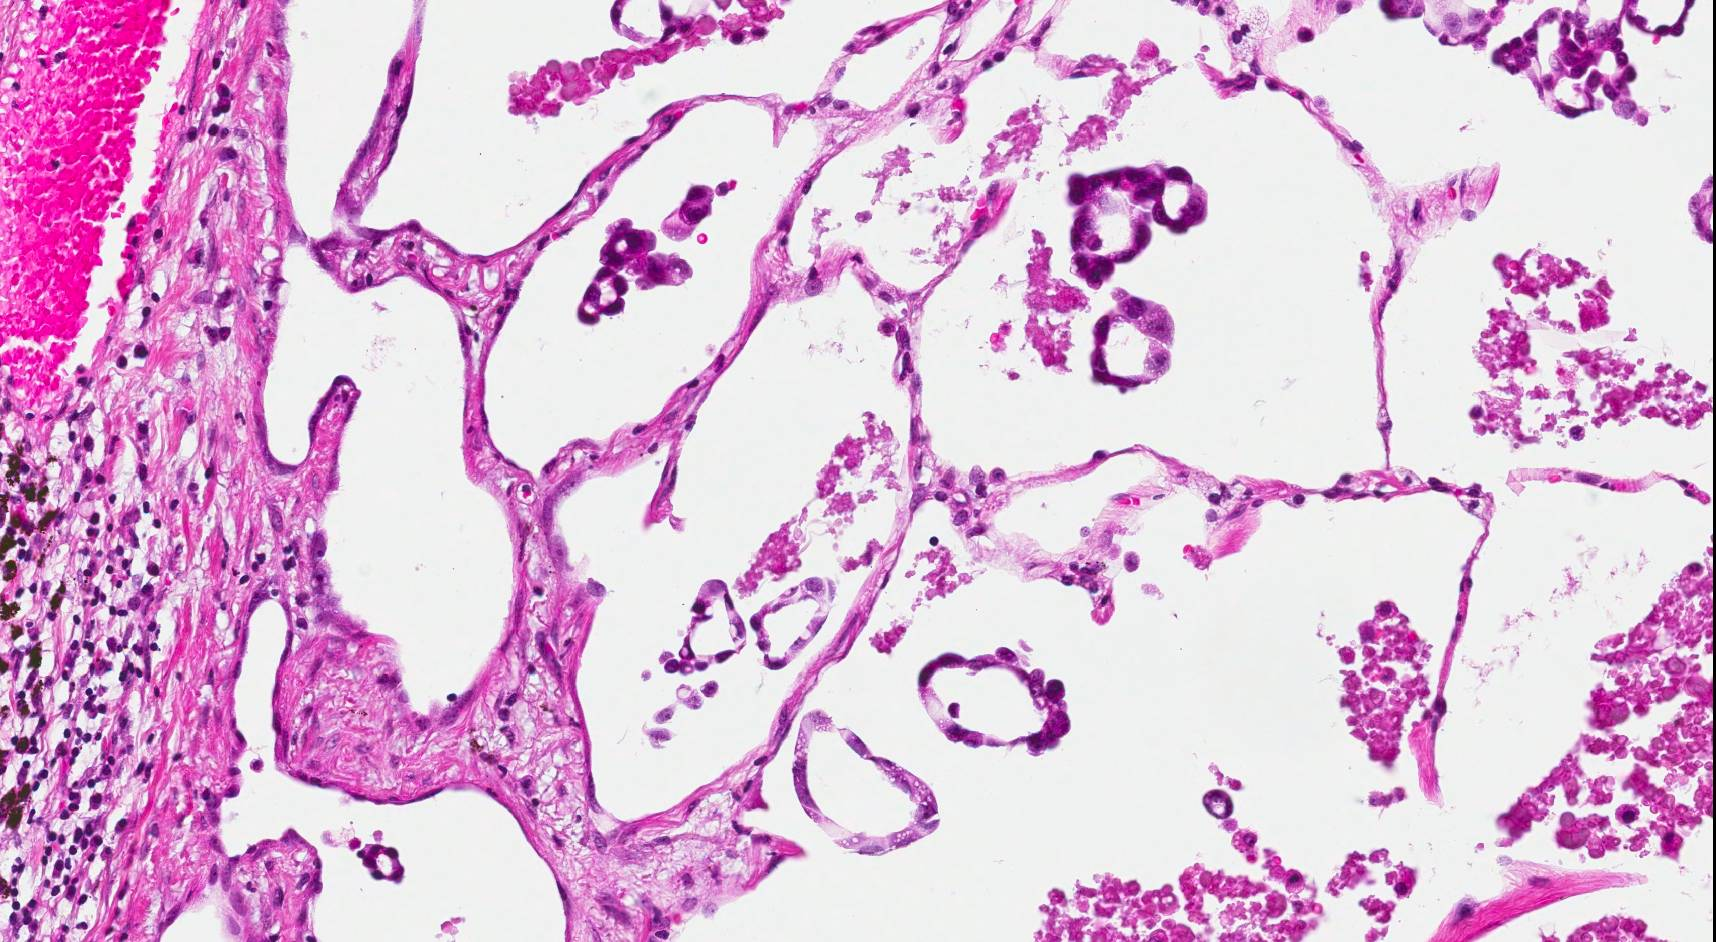stas: (790, 705, 946, 859), (1064, 161, 1212, 293), (920, 639, 1073, 757), (572, 214, 694, 327), (1089, 285, 1178, 395), (655, 577, 749, 676), (747, 573, 840, 671), (647, 681, 725, 757), (660, 177, 718, 246), (351, 836, 412, 889)
